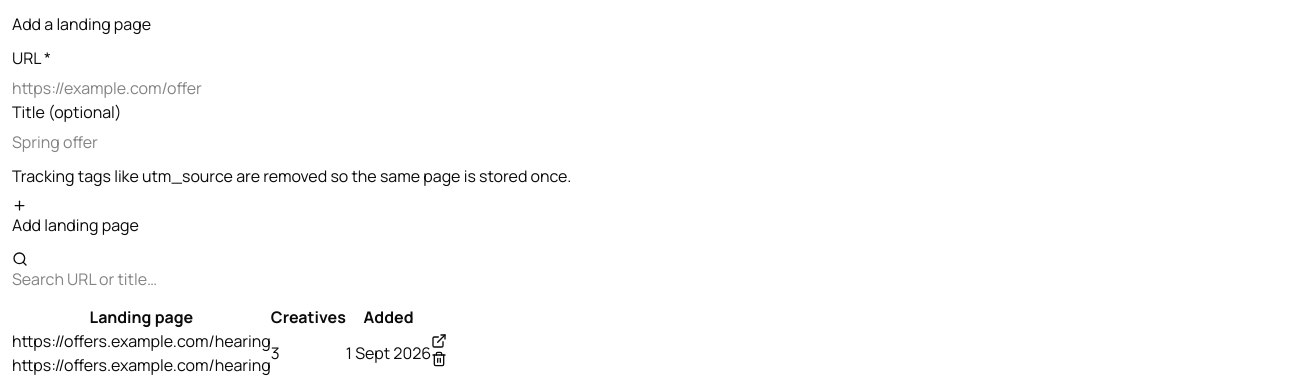
Test: LandingPagesList › says tracking tags will be removed
In the field with placeholder "https://example.com/offer": coordinates (652, 88) x1=12 y1=76 x2=1292 y2=100, type "https://Example.com/offer?utm_source=fb"
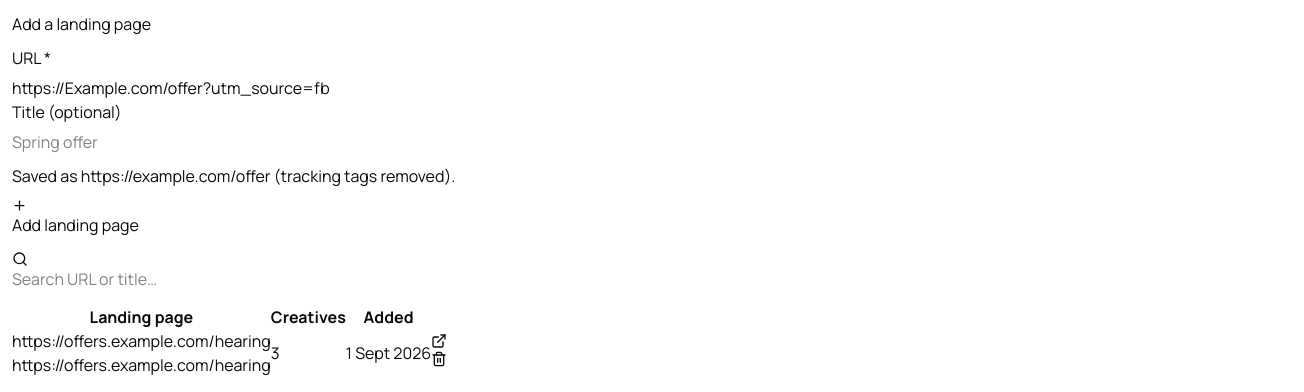
Now the text "Saved as https://example.com/offer (tracking tags removed)." is shown, box x1=12 y1=165 x2=455 y2=187
